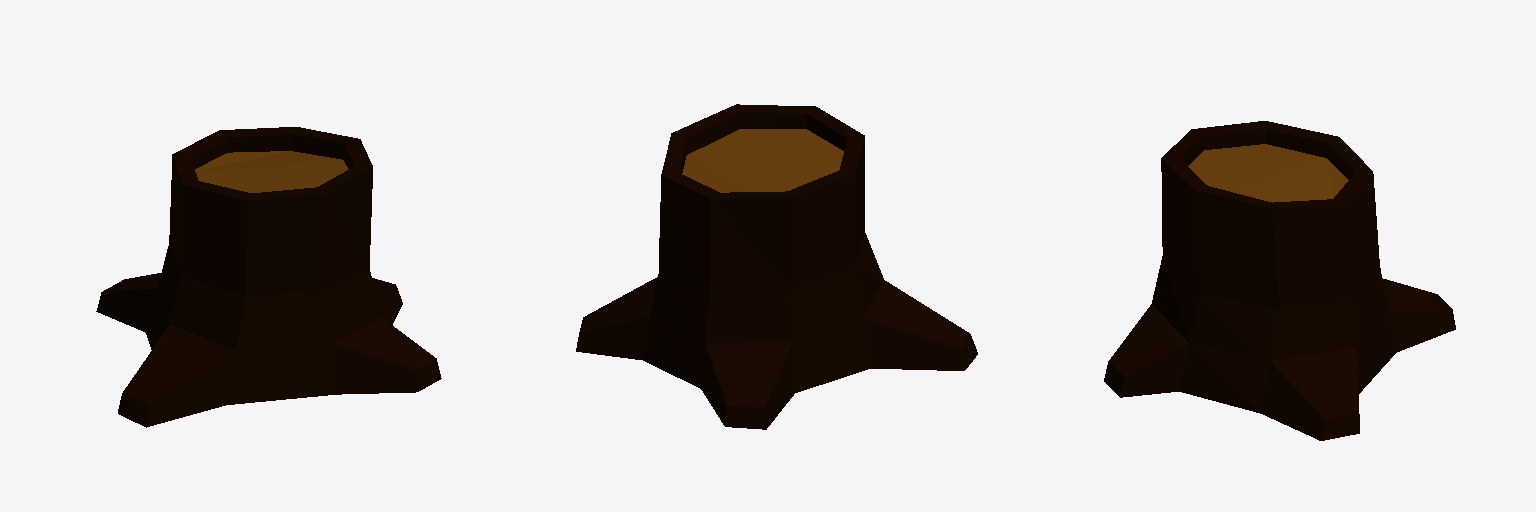
The model's file is stump6.obj.
3 renders of one model, left to right at view 1: azimuth 30°, elevation 25°; view 2: azimuth 150°, elevation 25°; view 3: azimuth 270°, elevation 25°, orthographic.
Visible parts, largest first — view 1: Stump1.001_Cylinder.064; view 2: Stump1.001_Cylinder.064; view 3: Stump1.001_Cylinder.064.
Part boxes in pixels (x1,y1,x2,y2): Stump1.001_Cylinder.064: (96,127,441,427); Stump1.001_Cylinder.064: (576,104,977,429); Stump1.001_Cylinder.064: (1104,121,1455,440).
Size of the model in its own units: 1.95 by 1.15 by 1.77.